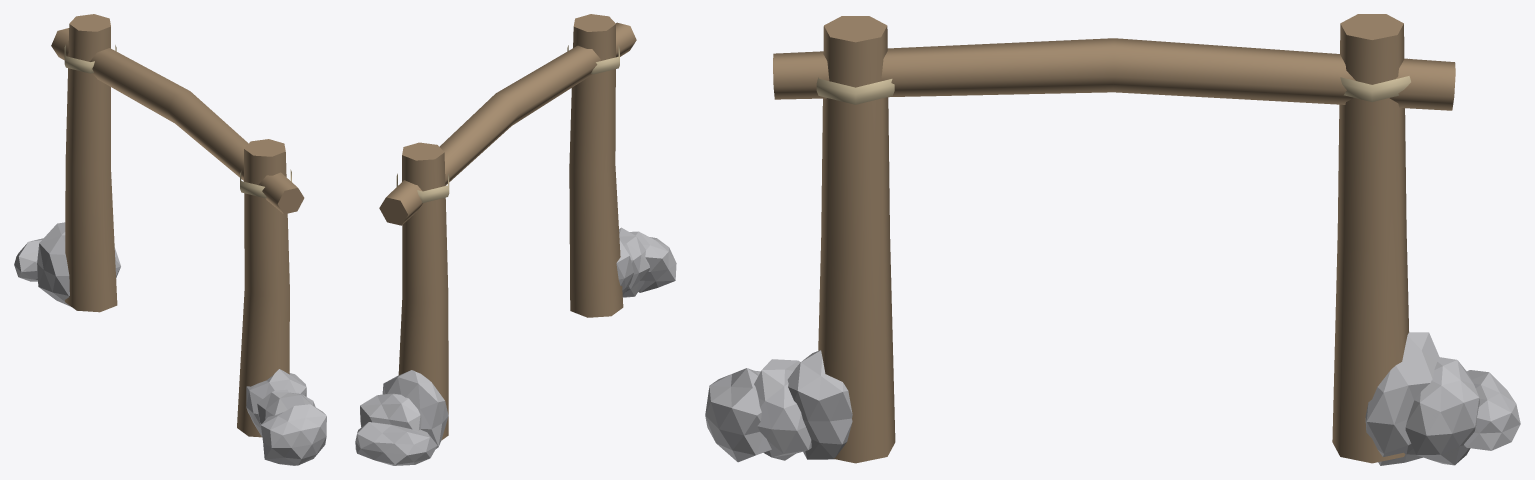
The model's file is village.wallgate.glb.
The picture shows the model from 3 angles, left to right: view 1: azimuth 30°, elevation 25°; view 2: azimuth 150°, elevation 25°; view 3: azimuth 270°, elevation 25°; orthographic projection. The views are drawn at different scales.
Parts seen in each view (by area): view 1: Wood, Stone, Rope; view 2: Wood, Stone, Rope; view 3: Wood, Stone, Rope.
Part boxes in pixels (x1,y1,x2,y2): Wood: [51, 14, 304, 437]; Stone: [14, 222, 326, 465]; Rope: [64, 44, 291, 198]; Wood: [379, 14, 636, 440]; Stone: [355, 227, 676, 465]; Rope: [396, 45, 619, 202]; Wood: [773, 14, 1455, 463]; Stone: [705, 332, 1520, 465]; Rope: [816, 58, 1410, 104].
Size of the model in its own units: 0.5088 by 1.78 by 3.
